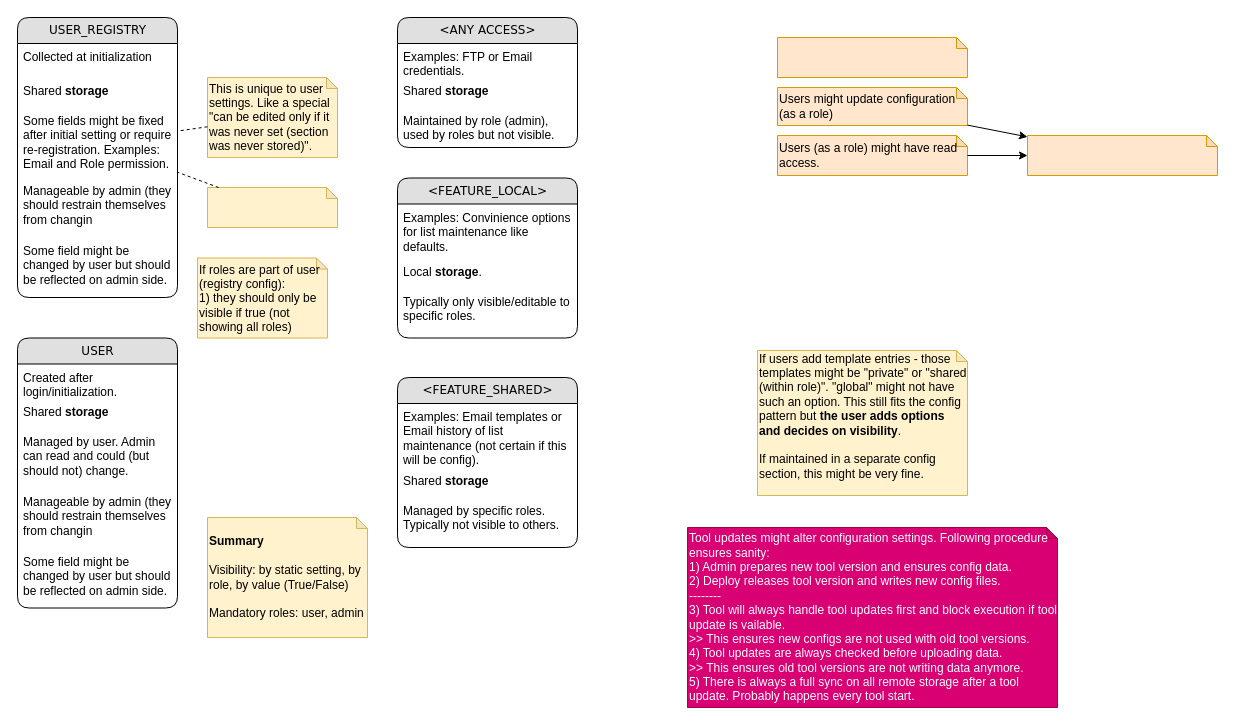
Some shapes in this 1235 by 725 pixel diagram are drawn without their labels. The shapes that lost their labels are listed below. From the top down, each one's centre as x and y in pixels, then its label:
the point at 872,57: Roles (admin) must be able to update configuration for all users.
the point at 1122,155: Options should take over section access settings but need overwriting.
the point at 272,207: While user cannot change. Admin still can.
